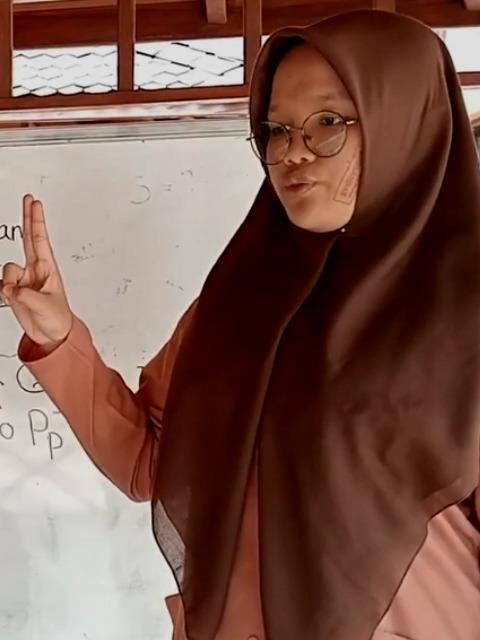U: (1, 186, 75, 354)
